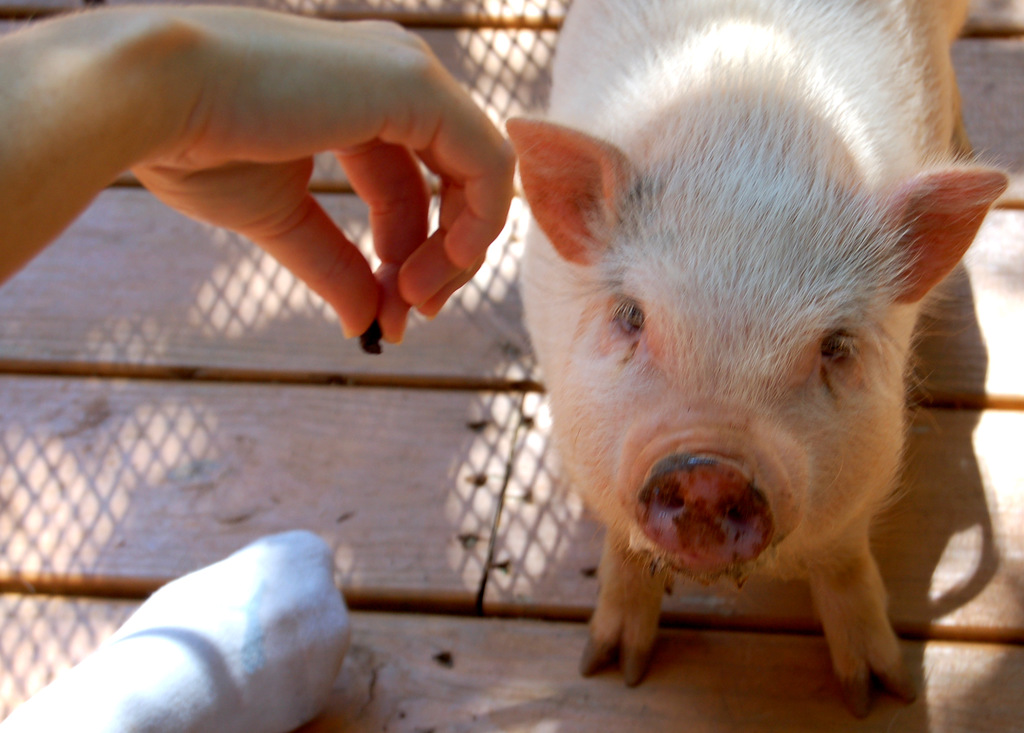Human_hand: (1, 1, 516, 356)
